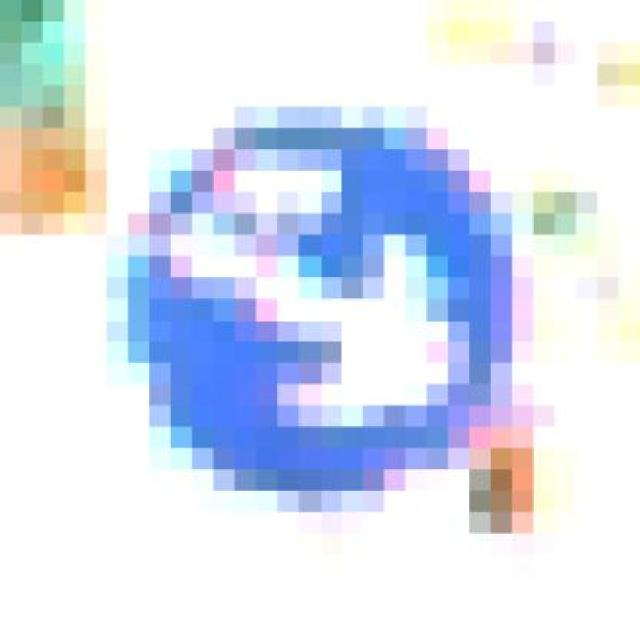Keep-Right: (85, 85, 533, 512)
